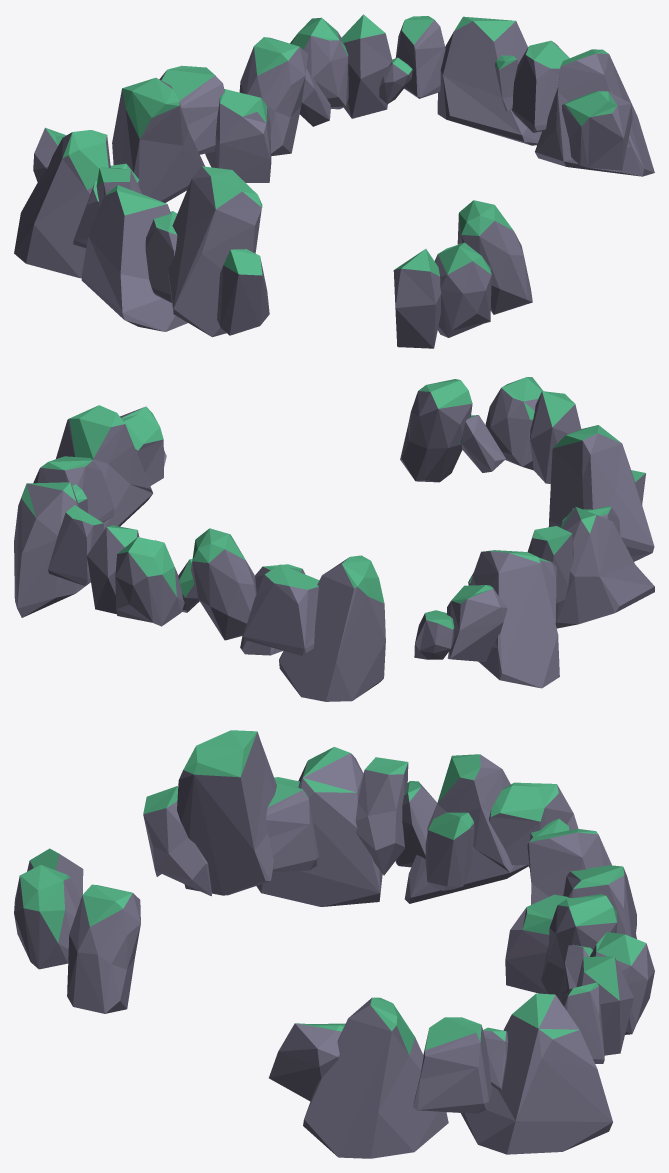
The model's file is Rock_WorldBorder.fbx.
3 views of the same model, one above another, from view 1: azimuth 30°, elevation 25°; view 2: azimuth 150°, elevation 25°; view 3: azimuth 270°, elevation 25° (orthographic). The views are drawn at different scales.
Parts seen in each view (by area): view 1: Cube.263, Cube.020, Cube.012, Cube.184, Cube.050, Cube.094, Cube.394, Cube.045, Cube.049, Cube.090, Cube.083, Cube.087 (+13 smaller); view 2: Cube.050, Cube.012, Cube.263, Cube.020, Cube.184, Cube.094, Cube.045, Cube.394, Cube.048, Cube.396, Cube.011, Cube.083 (+11 smaller); view 3: Cube.184, Cube.094, Cube.263, Cube.020, Cube.045, Cube.012, Cube.165, Cube.083, Cube.193, Cube.011, Cube, Cube.394 (+13 smaller).
Boxes of the visible parts, <box> form: Cube.263: <box>168,166,262,337</box>; Cube.020: <box>81,185,187,331</box>; Cube.012: <box>14,130,110,278</box>; Cube.184: <box>437,16,541,145</box>; Cube.050: <box>112,77,204,202</box>; Cube.094: <box>535,49,654,176</box>; Cube.394: <box>239,37,307,155</box>; Cube.045: <box>457,200,532,314</box>; Cube.049: <box>205,89,271,182</box>; Cube.090: <box>562,91,632,171</box>; Cube.083: <box>434,242,491,337</box>; Cube.087: <box>393,249,441,348</box>; Cube.050: <box>279,555,385,701</box>; Cube.012: <box>470,550,559,688</box>; Cube.263: <box>548,425,654,561</box>; Cube.020: <box>555,507,654,628</box>; Cube.184: <box>14,482,90,617</box>; Cube.094: <box>56,405,153,529</box>; Cube.045: <box>400,379,472,482</box>; Cube.394: <box>191,528,256,640</box>; Cube.048: <box>243,564,319,655</box>; Cube.396: <box>115,537,184,626</box>; Cube.011: <box>447,585,507,661</box>; Cube.083: <box>485,377,543,470</box>; Cube.184: <box>461,993,612,1154</box>; Cube.094: <box>303,997,448,1158</box>; Cube.263: <box>177,730,276,895</box>; Cube.020: <box>256,747,382,906</box>; Cube.045: <box>67,884,140,1013</box>; Cube.012: <box>404,754,528,903</box>; Cube.165: <box>413,1017,492,1113</box>; Cube.083: <box>14,865,80,969</box>; Cube.193: <box>355,757,408,875</box>; Cube.011: <box>488,782,578,865</box>; Cube: <box>143,786,211,896</box>; Cube.394: <box>541,894,616,1001</box>.
Size of the model in its own units: 19460 by 5513 by 17306.
